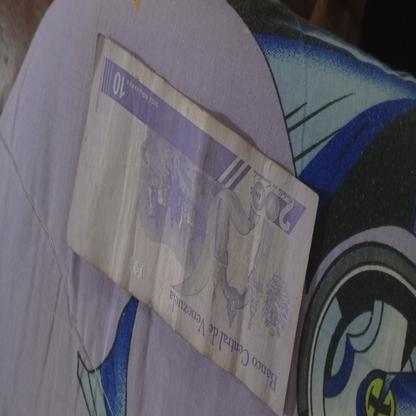vef_back: (65, 34, 320, 416)
